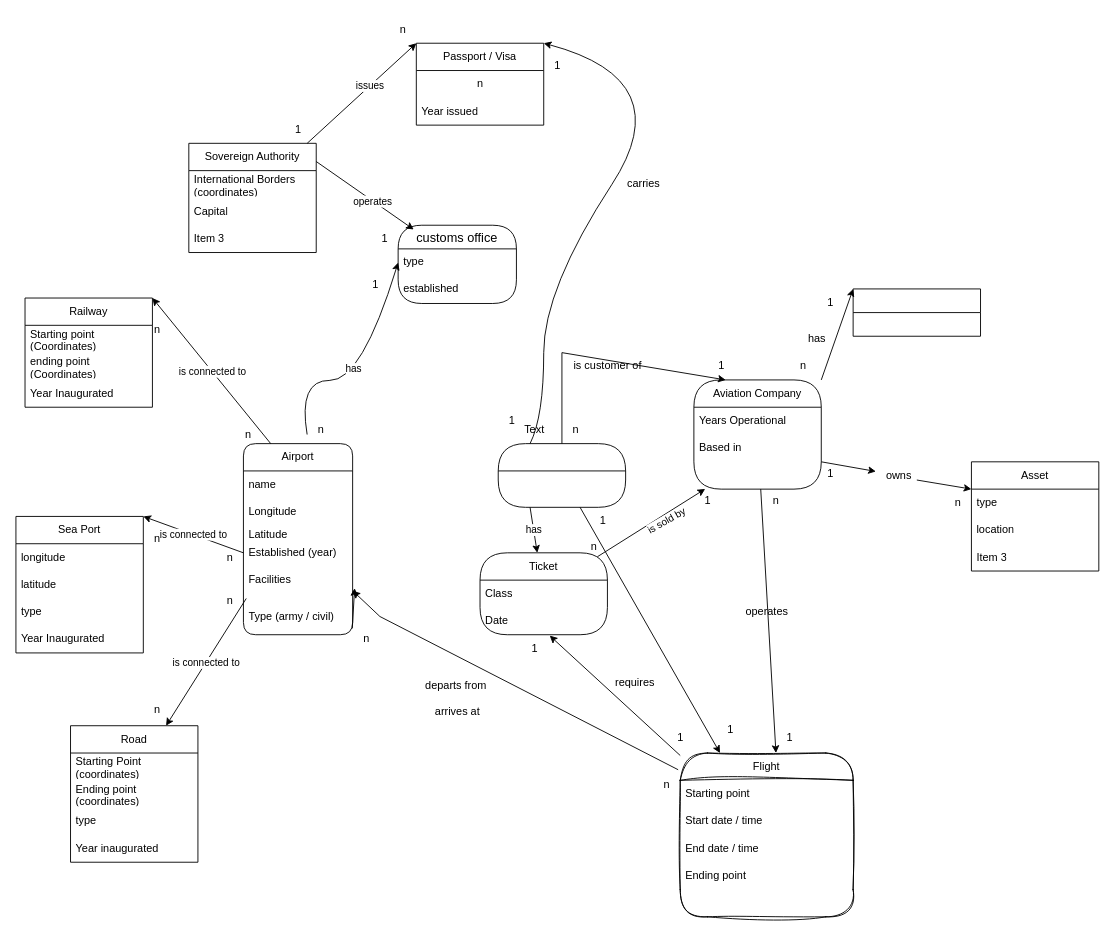
This 1115x933 diagram has some shape labels left out. The centre of each missing label's shape, as x and y in pixels:
"Appelation" goes at point (916, 312).
"Traveller" goes at point (561, 475).
